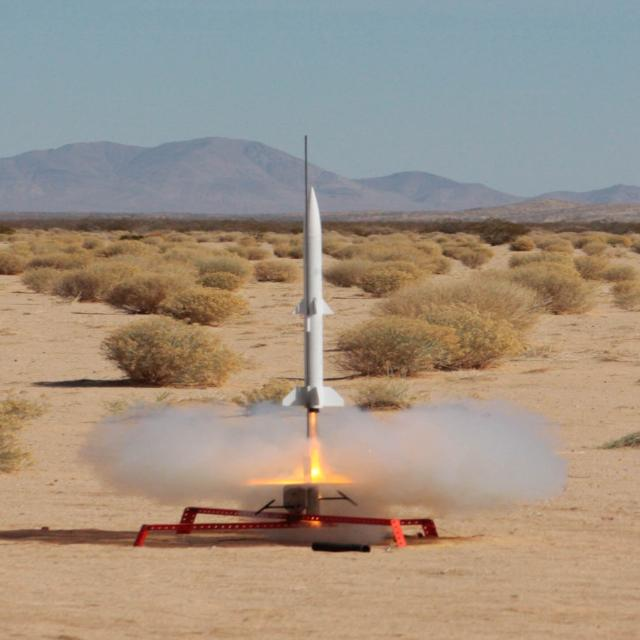Rocket: (279, 184, 345, 414)
